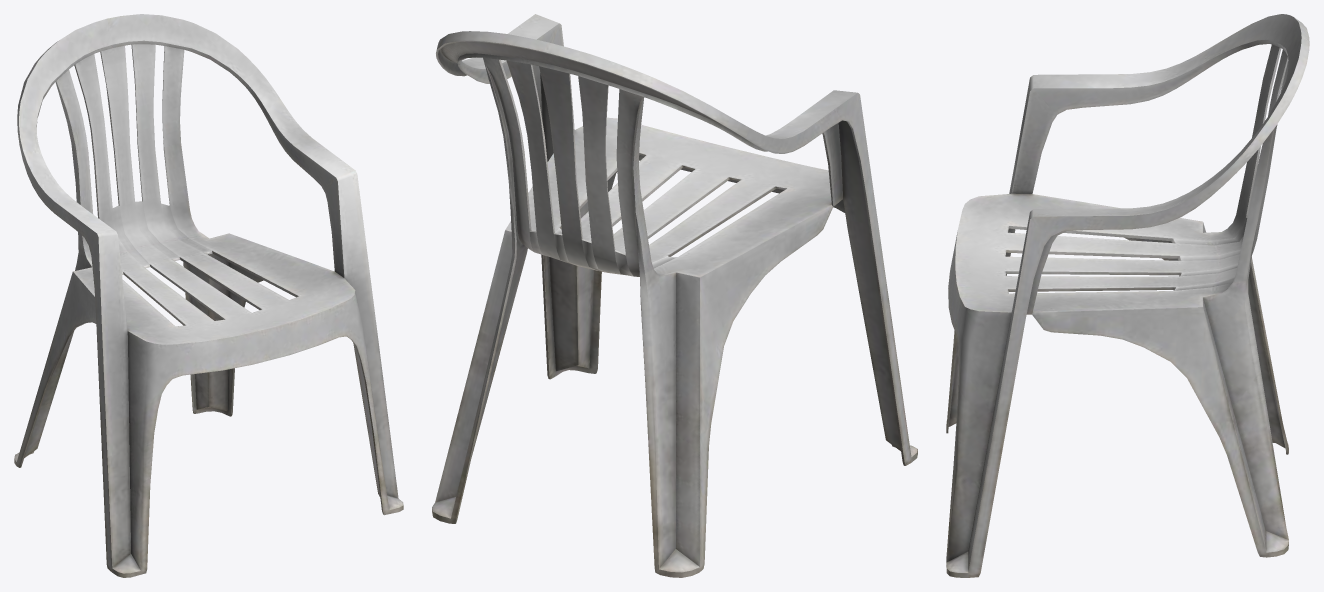
File: silla-plastico.glb
3 renders of one model, left to right at view 1: azimuth 30°, elevation 25°; view 2: azimuth 150°, elevation 25°; view 3: azimuth 270°, elevation 25°, orthographic. The views are drawn at different scales.
Visible parts, largest first — view 1: plastic_monobloc_chair_01; view 2: plastic_monobloc_chair_01; view 3: plastic_monobloc_chair_01.
Part boxes in pixels (left/top/right/bottom): plastic_monobloc_chair_01: left=14, top=14, right=403, bottom=577; plastic_monobloc_chair_01: left=432, top=14, right=917, bottom=577; plastic_monobloc_chair_01: left=946, top=14, right=1309, bottom=577.
Bounding box in the file's own units: 0.6419 × 0.8798 × 0.6276.
1 material, 1 textured.
